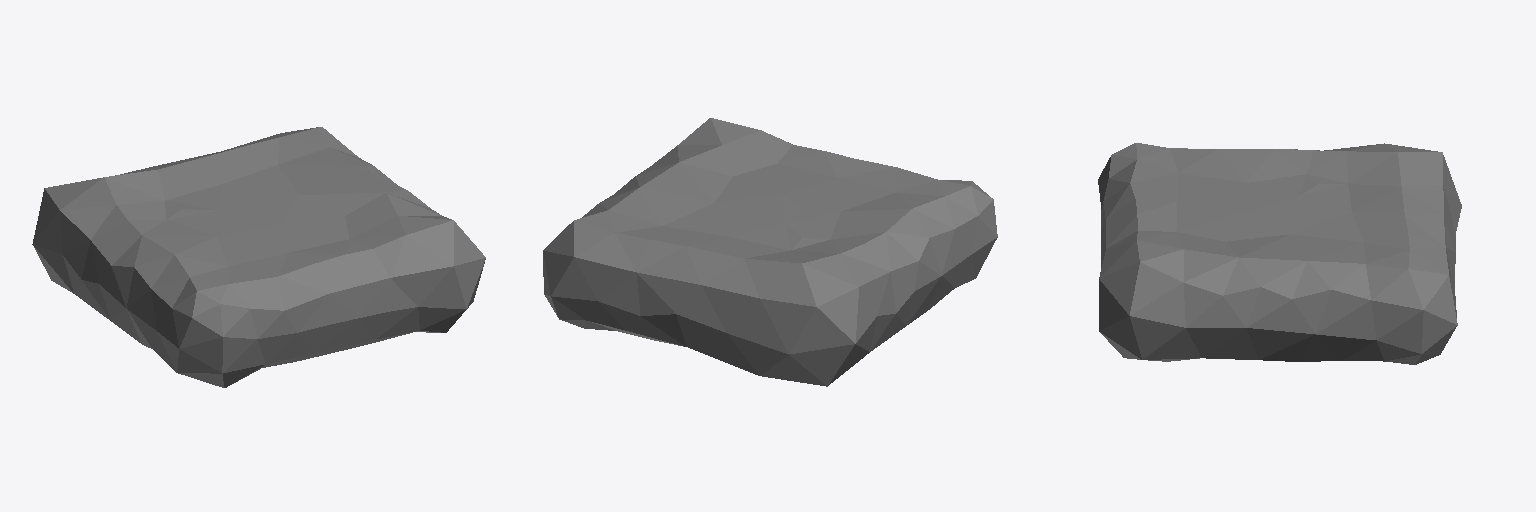
Rendered from StonePlatform_F.obj.
3 views of the same model, side by side, from view 1: azimuth 30°, elevation 25°; view 2: azimuth 150°, elevation 25°; view 3: azimuth 270°, elevation 25° (orthographic).
Visible parts, largest first — view 1: Stone_F; view 2: Stone_F; view 3: Stone_F.
Boxes of the visible parts, x1=… form: Stone_F: x1=32, y1=127, x2=485, y2=387; Stone_F: x1=543, y1=118, x2=997, y2=386; Stone_F: x1=1098, y1=143, x2=1461, y2=364.
Bounding box in the file's own units: 7.45 × 2.67 × 7.55.